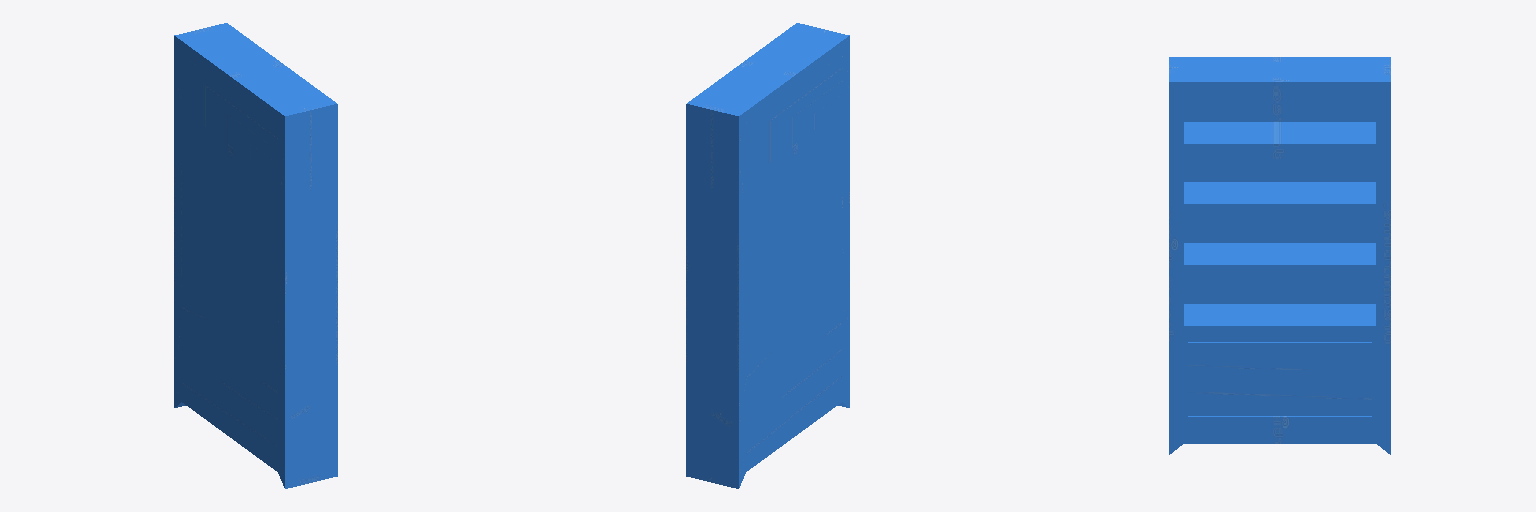
The picture shows the model from 3 angles: view 1: azimuth 30°, elevation 25°; view 2: azimuth 150°, elevation 25°; view 3: azimuth 270°, elevation 25°; orthographic projection.
Visible parts, largest first — view 1: ArmFBXASC195FBXASC161rioFBXASC032Som; view 2: ArmFBXASC195FBXASC161rioFBXASC032Som; view 3: ArmFBXASC195FBXASC161rioFBXASC032Som.
Part boxes in pixels (bbox=[...]): ArmFBXASC195FBXASC161rioFBXASC032Som: bbox=[174, 23, 337, 488]; ArmFBXASC195FBXASC161rioFBXASC032Som: bbox=[686, 23, 849, 488]; ArmFBXASC195FBXASC161rioFBXASC032Som: bbox=[1169, 57, 1390, 454].
Size of the model in its own units: 123 by 836 by 450.
1 materials, 1 textured.